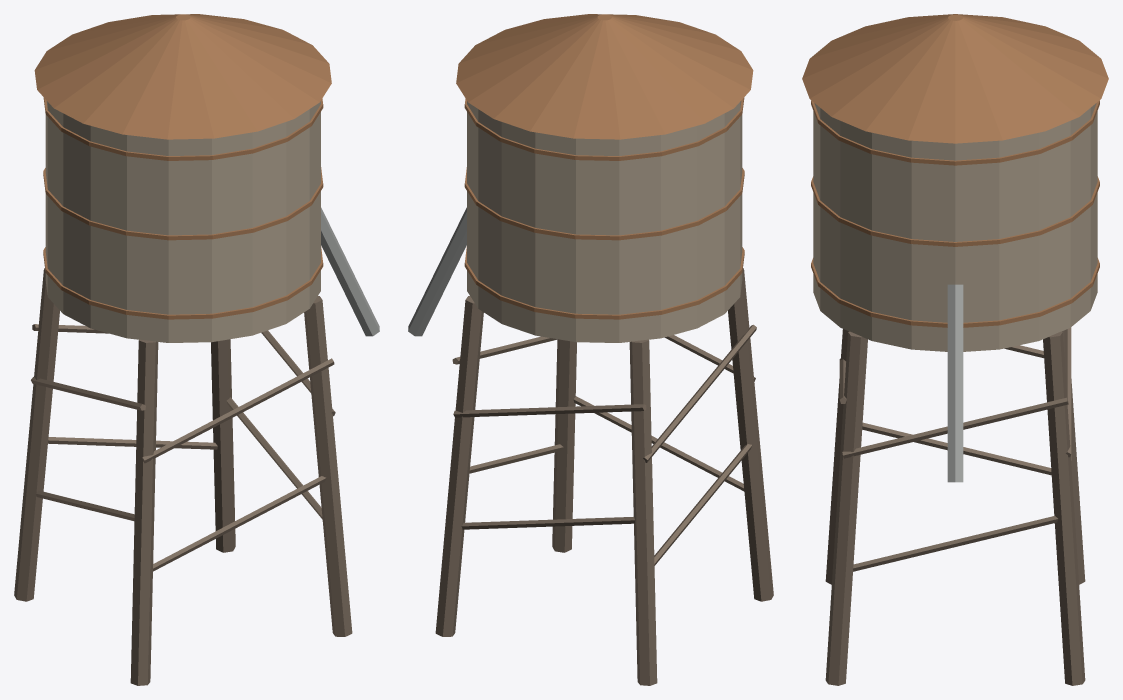
Rendered from RailWaterTower.glb.
3 renders of one model, left to right at view 1: azimuth 30°, elevation 25°; view 2: azimuth 150°, elevation 25°; view 3: azimuth 270°, elevation 25°, orthographic. The views are drawn at different scales.
Parts seen in each view (by area): view 1: Tank staves, Tank roof, Limb.112, Limb.113, Limb.115, Limb.114, Limb.124, Hoop, Hoop.001, Hoop.002, Limb.120, Limb.116 (+4 smaller); view 2: Tank staves, Tank roof, Limb.115, Limb.114, Limb.112, Limb.113, Limb.124, Hoop, Hoop.001, Hoop.002, Limb.122, Limb.118 (+5 smaller); view 3: Tank staves, Tank roof, Limb.113, Limb.114, Limb.124, Hoop.001, Hoop.002, Hoop, Limb.121, Limb.117, Limb.112, Limb.119 (+2 smaller).
Boxes of the visible parts, x1,y1,x2,y2 form: Tank staves: (45,101,320,342); Tank roof: (34,14,331,139); Limb.112: (130,339,158,685); Limb.113: (304,296,352,636); Limb.115: (14,268,59,601); Limb.114: (211,339,235,552); Limb.124: (321,207,379,336); Hoop: (43,246,323,319); Hoop.001: (43,167,323,240); Hoop.002: (43,97,323,160); Limb.120: (142,358,334,463); Limb.116: (153,476,326,571); Tank staves: (467,101,742,342); Tank roof: (456,14,753,139); Limb.115: (629,339,657,685); Limb.114: (435,296,483,636); Limb.112: (728,268,773,601); Limb.113: (552,339,576,552); Limb.124: (408,207,466,336); Hoop: (464,246,744,319); Hoop.001: (464,167,744,240); Hoop.002: (464,97,744,160); Limb.122: (453,404,646,417); Limb.118: (461,516,634,529); Tank staves: (813,103,1097,351); Tank roof: (802,14,1108,143); Limb.113: (825,331,867,685); Limb.114: (1043,331,1085,685); Limb.124: (947,284,963,482); Hoop.001: (811,176,1099,246); Hoop.002: (811,100,1099,165); Hoop: (811,258,1099,327); Limb.121: (842,397,1068,458); Limb.117: (852,516,1058,571); Limb.112: (825,329,848,584); Limb.119: (862,422,1051,475).
Bounding box in the file's own units: 5.16 × 9.06 × 4.1.
